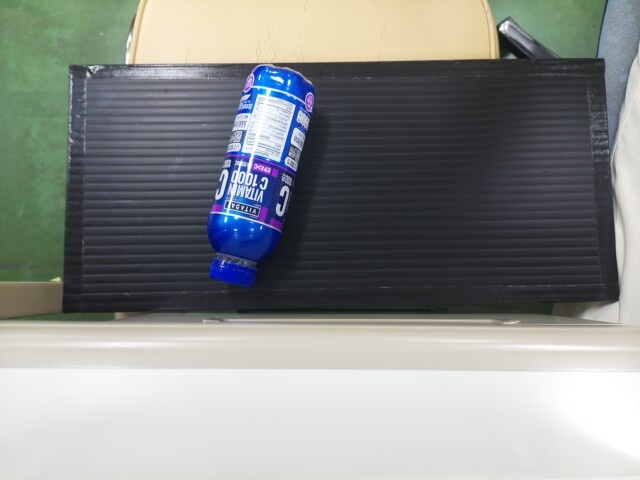plastic_bottle: (210, 63, 310, 277)
